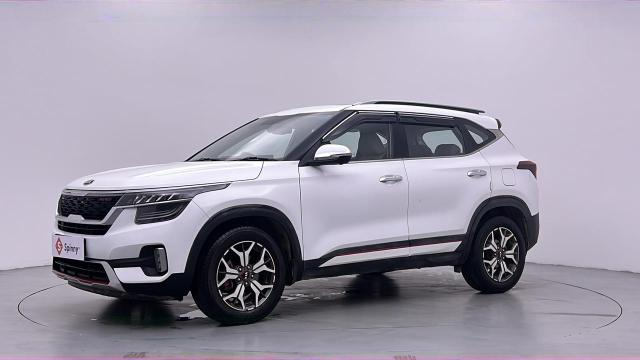kia: (51, 100, 539, 324)
